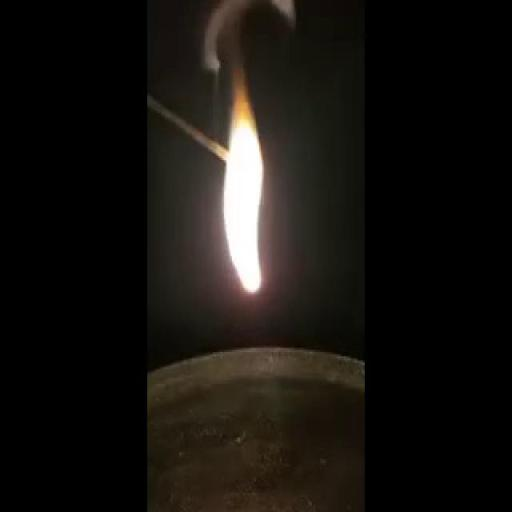smoke: (212, 49, 274, 312)
